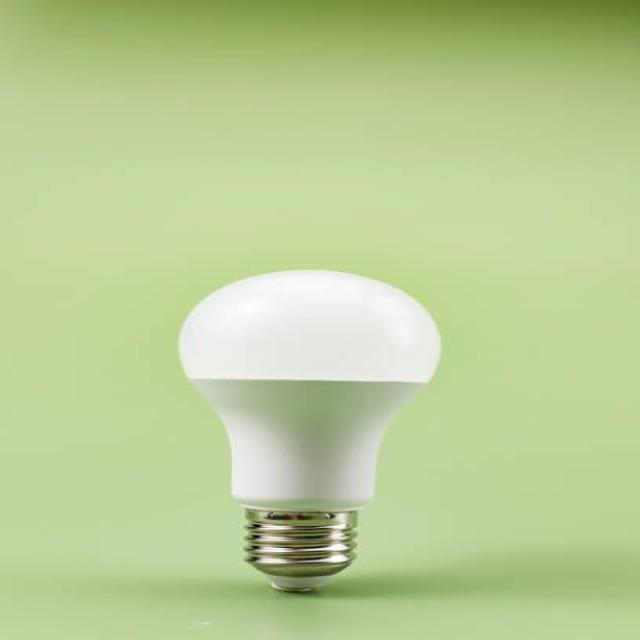electronic: (176, 268, 442, 592)
